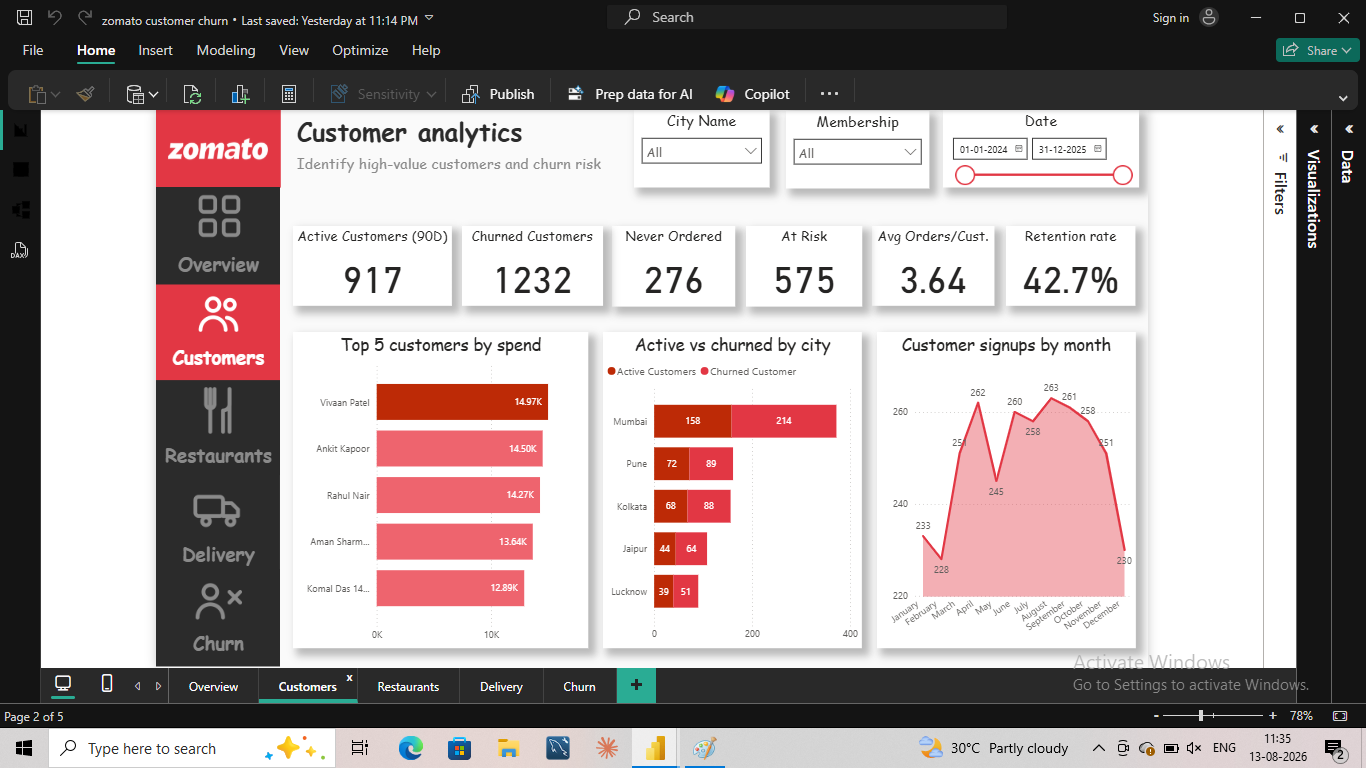

What the dashboard file says about the page in this screenshot:
{"tool":"powerbi","page":{"name":"Customers","canvas":[1280,720],"ordinal":1},"visuals":[{"type":"slicer","title":"City Name","fields":{"Values":["cities.city_name"]},"box":[617.3,0,174.9,99.8],"z":0},{"type":"slicer","title":"Membership","fields":{"Values":["memberships.membership_name"]},"box":[812.5,1.4,185.1,99.8],"z":1000},{"type":"slicer","title":"Date","fields":{"Values":["orders.order_datetime"]},"box":[1014.9,0,253,99.8],"z":2000},{"type":"textbox","box":[176.3,0,381.4,64.4],"z":3000},{"type":"shape","box":[0,99.8,160.5,125.8],"z":3000,"group":"g5"},{"type":"textbox","box":[176.4,50.6,426.5,50.6],"z":4000},{"type":"shape","box":[0,224.8,160.5,124.3],"z":4000,"group":"g4"},{"type":"barChart","title":"Top 5 customers by spend","fields":{"Y":["Sum(orders.final_amount)"],"Category":["customers.customer_name"]},"box":[176.3,286.4,381.4,408.5],"z":5000},{"type":"shape","box":[0,347,160.5,124.3],"z":5000,"group":"g2"},{"type":"barChart","title":"Active vs churned by city","fields":{"Category":["cities.city_name"],"Y":["customers.Active Customers","customers.Churned Customer"]},"box":[576.3,286.4,333.9,408.5],"z":6000},{"type":"shape","box":[0,467.8,159.9,126.1],"z":6000,"group":"g6"},{"type":"lineChart","title":"Customer signups by month","fields":{"Y":["CountNonNull(customers.customer_name)"],"Category":["customers.signup_date.Variation.Date Hierarchy.Month"]},"box":[930.5,286.4,333.9,408.5],"z":7000},{"type":"shape","box":[0,592.1,160.5,125.8],"z":7000,"group":"g3"},{"type":"shape","box":[0,0,161,100],"z":8000,"group":"g1"},{"type":"card","title":"Active Customers (90D)","fields":{"Values":["CountNonNull(customers.Customer Status)"]},"box":[176.8,149.9,205.2,102.6],"z":8000},{"type":"group","id":"g1","title":"Group 1","box":[0,0,161,100],"z":9000},{"type":"image","box":[0,8.7,160.5,82.4],"z":10000,"group":"g1"},{"type":"group","id":"g2","title":"Group 4","box":[0,347,161,129.3],"z":10000},{"type":"textbox","box":[0,176.3,161,47.5],"z":11000,"group":"g5"},{"type":"group","id":"g3","title":"Group 6","box":[0,592.1,161,126.1],"z":11000},{"type":"group","id":"g4","title":"Group 2","box":[0,224.5,161,125.3],"z":12000},{"type":"textbox","box":[0,297.3,161,52.5],"z":12000,"group":"g4"},{"type":"group","id":"g5","title":"Group 3","box":[0,99.5,161,126.1],"z":13000},{"type":"textbox","box":[0,423.7,161,52.5],"z":13000,"group":"g2"},{"type":"group","id":"g6","title":"Group 5","box":[0,467.8,160.9,129.1],"z":14000},{"type":"textbox","box":[0,550,160.9,46.8],"z":14000,"group":"g6"},{"type":"actionButton","box":[0,344.4,161.3,124.3],"z":15000},{"type":"textbox","box":[0,665.7,161,52.5],"z":15000,"group":"g3"},{"type":"actionButton","box":[0,475.4,160.9,124.3],"z":16000},{"type":"image","box":[18.6,349.2,125.4,76.3],"z":17000,"group":"g2"},{"type":"actionButton","box":[0,593,161.3,124.3],"z":17000},{"type":"actionButton","box":[0,100.9,160.9,124.3],"z":18000},{"type":"image","box":[18.6,474.2,125,76.5],"z":18000,"group":"g6"},{"type":"card","title":"Never Ordered","fields":{"Values":["CountNonNull(customers.Customer Status)"]},"box":[588.7,149.9,159.4,104.2],"z":19000},{"type":"image","box":[18.6,594.5,125.4,76.3],"z":19000,"group":"g3"},{"type":"card","title":"Churned Customers","fields":{"Values":["customers.Churned Customer"]},"box":[394.6,149.9,181.5,102.6],"z":20000},{"type":"image","box":[19,99.5,125.8,74.6],"z":20001,"group":"g5"},{"type":"image","box":[19,224.5,124.3,74.6],"z":20002,"group":"g4"},{"type":"card","title":"Avg Orders/Cust.","fields":{"Values":["orders.Avg Orders per Customer"]},"box":[923.3,149.9,157.8,102.6],"z":21000},{"type":"card","title":"At Risk","fields":{"Values":["CountNonNull(customers.Customer Status)"]},"box":[760.7,149.9,149.9,104.2],"z":22000},{"type":"card","title":"Retention rate","fields":{"Values":["customers.Retention Rate"]},"box":[1096.9,149.9,167.3,102.6],"z":23000}]}

Visuals, with their boxes on the page's 1280x720 design canvas (x1, y1, x2, y2). These are canvas units, not pixel positions in the 1366x768 screenshot, which may show the page scaled, cropped or inside an application window:
"City Name" slicer: 617:0:792:100
"Membership" slicer: 812:1:998:101
"Date" slicer: 1015:0:1268:100
textbox: 176:0:558:64
shape: 0:100:160:226
textbox: 176:51:603:101
shape: 0:225:160:349
"Top 5 customers by spend" barChart: 176:286:558:695
shape: 0:347:160:471
"Active vs churned by city" barChart: 576:286:910:695
shape: 0:468:160:594
"Customer signups by month" lineChart: 930:286:1264:695
shape: 0:592:160:718
shape: 0:0:161:100
"Active Customers (90D)" card: 177:150:382:252
"Group 1" group: 0:0:161:100
image: 0:9:160:91
"Group 4" group: 0:347:161:476
textbox: 0:176:161:224
"Group 6" group: 0:592:161:718
"Group 2" group: 0:224:161:350
textbox: 0:297:161:350
"Group 3" group: 0:100:161:226
textbox: 0:424:161:476
"Group 5" group: 0:468:161:597
textbox: 0:550:161:597
actionButton: 0:344:161:469
textbox: 0:666:161:718
actionButton: 0:475:161:600
image: 19:349:144:426
actionButton: 0:593:161:717
actionButton: 0:101:161:225
image: 19:474:144:551
"Never Ordered" card: 589:150:748:254
image: 19:594:144:671
"Churned Customers" card: 395:150:576:252
image: 19:100:145:174
image: 19:224:143:299
"Avg Orders/Cust." card: 923:150:1081:252
"At Risk" card: 761:150:911:254
"Retention rate" card: 1097:150:1264:252
